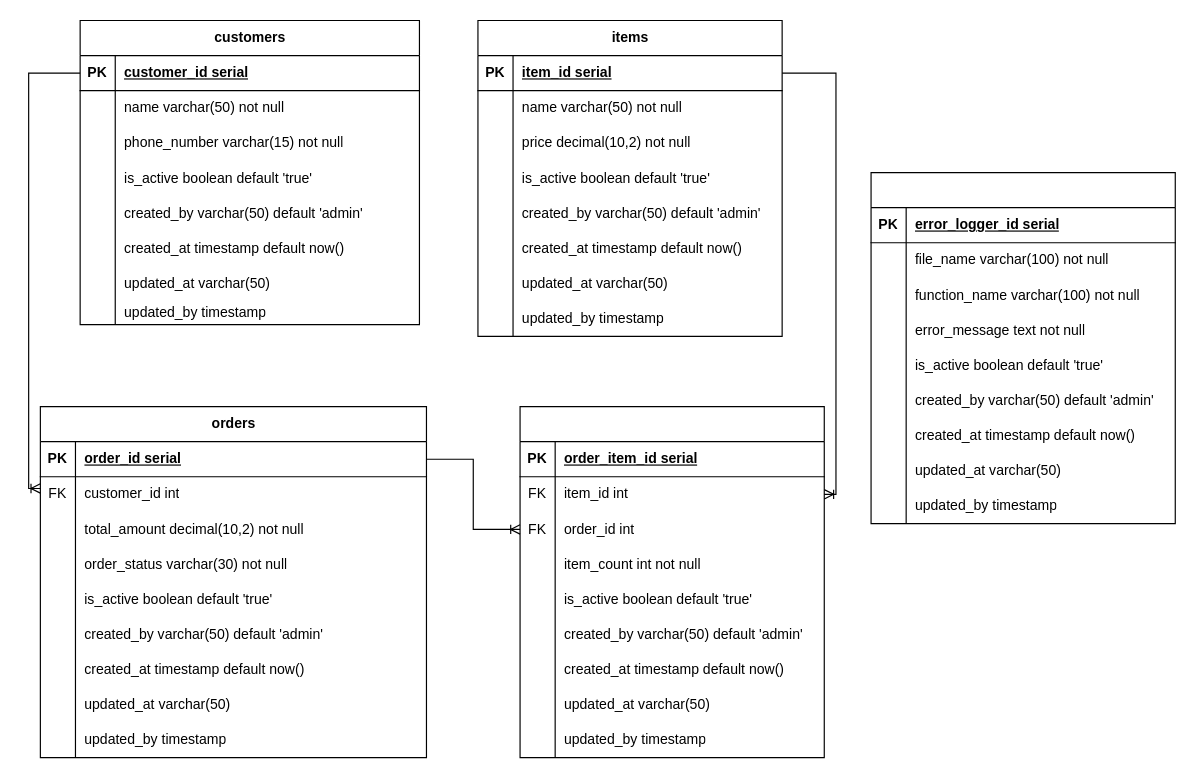
Some shapes in this 1196 by 778 pixel diagram are drawn without their labels. The shapes that lost their labels are listed below. From the top down, each one's box as (x1, y1, x2, y2) in pixels, then its label:
(870, 171, 1175, 524): error_loggers
(519, 405, 824, 758): order_items
